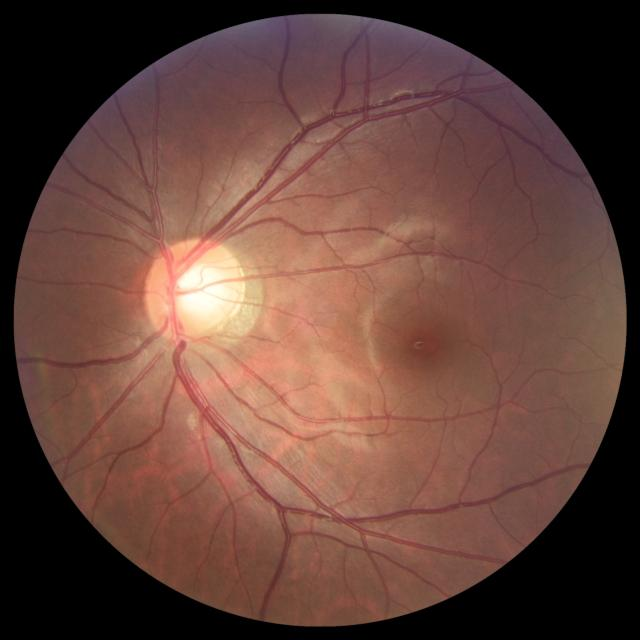OC: (168, 260, 224, 322)
OD: (144, 236, 240, 338)
